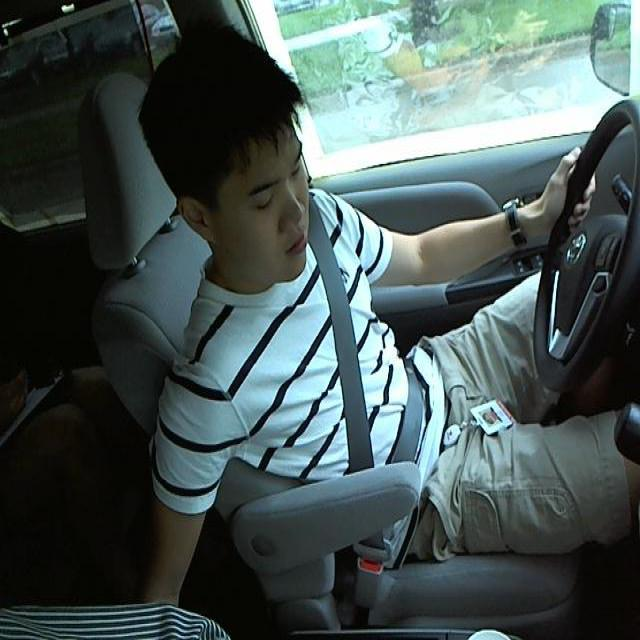seatbelt: (310, 244, 432, 456)
